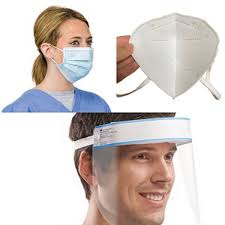masked: (33, 6, 95, 82)
